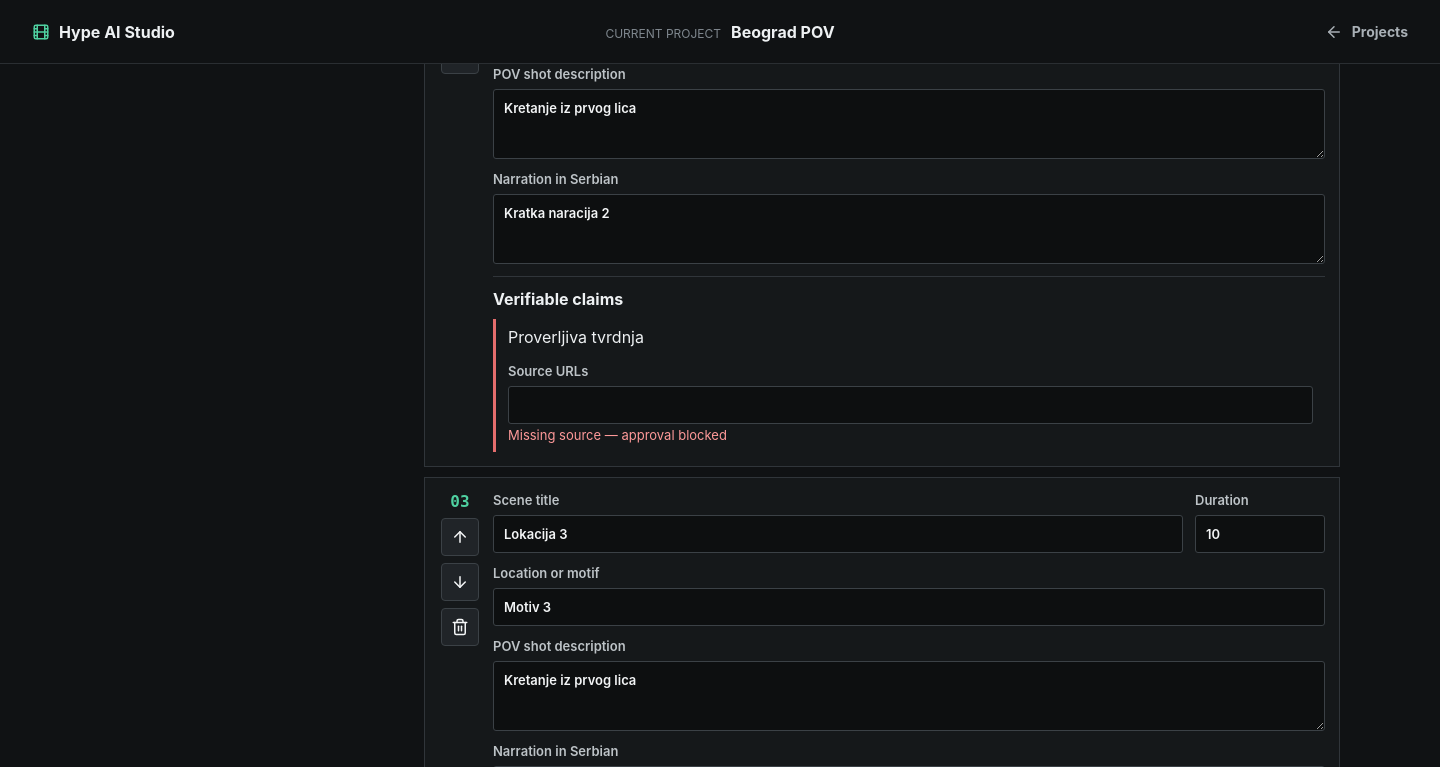
Test case: blocks an unsourced tour claim and approves the sourced immutable version
(page scrolled)
Expected: the text "Missing source — approval blocked" is shown, top-left (508, 427), bottom-right (727, 443)
Type "https://example.test/source" into the field named "Sources for scene 2 claim 1" at (910, 405), box top-left (508, 386), bottom-right (1313, 424)
(page scrolled)
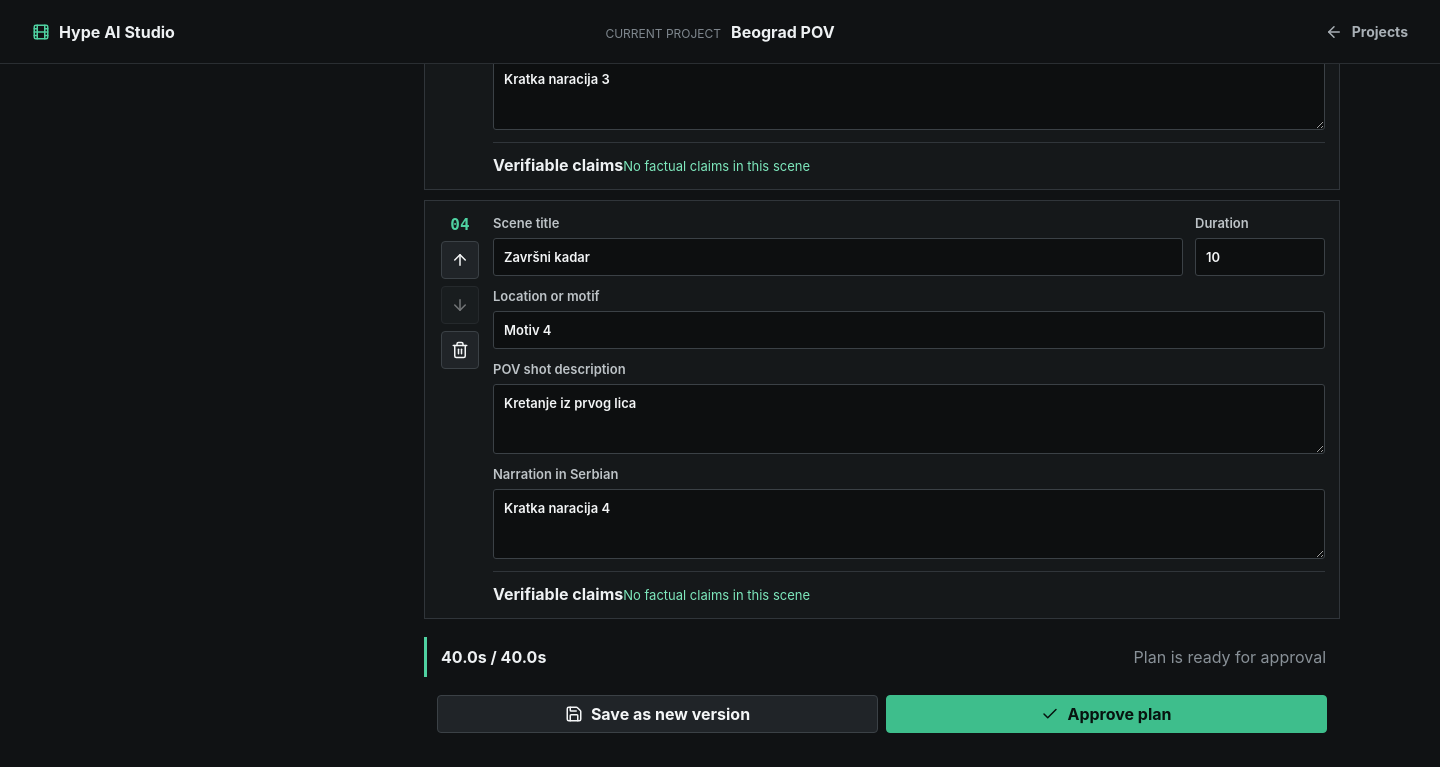
Click the button "Approve plan" at (1106, 714), box top-left (886, 695), bottom-right (1327, 733)
(page scrolled)
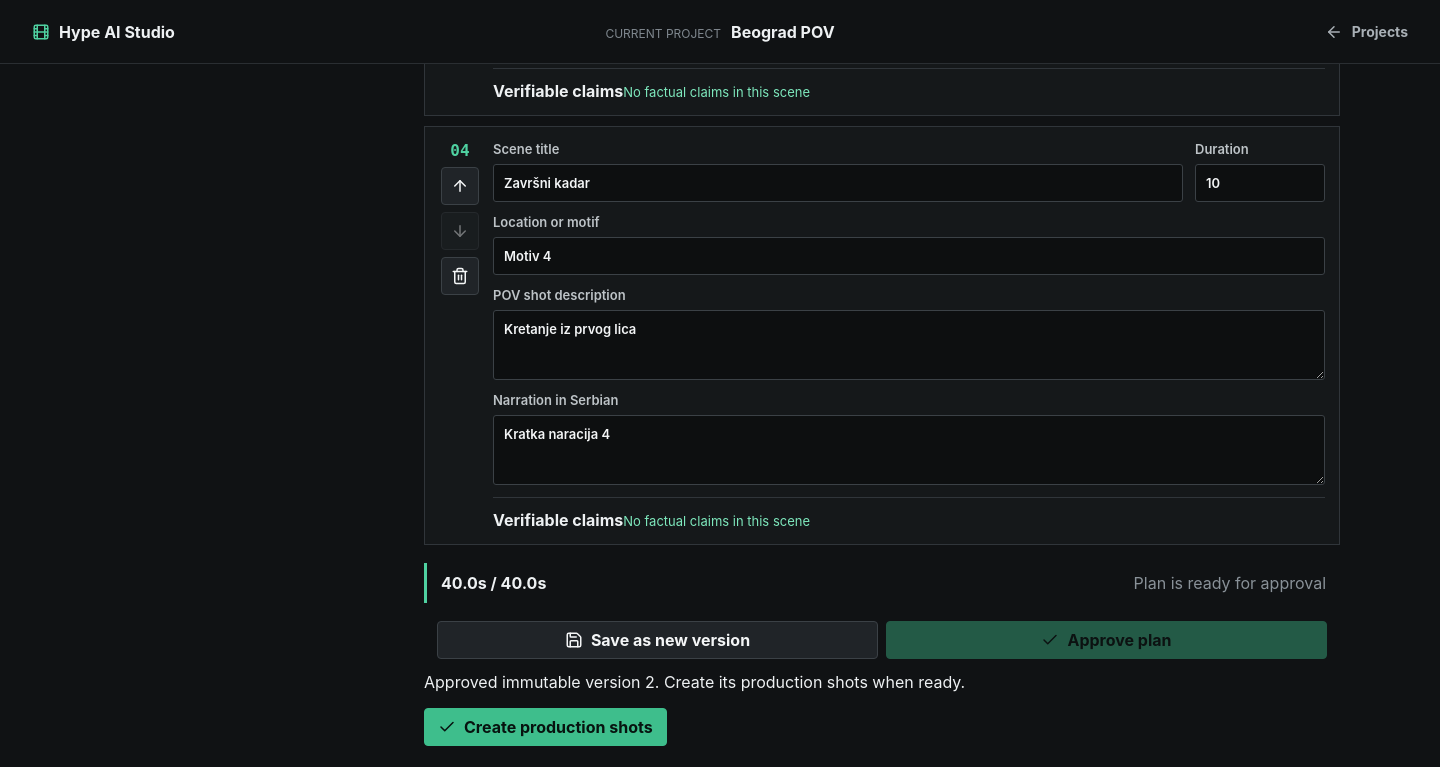
Now the text "Approved immutable version 2" is shown, box top-left (424, 672), bottom-right (965, 692)
Click the button "Create production shots" at (545, 727), box top-left (424, 708), bottom-right (667, 746)
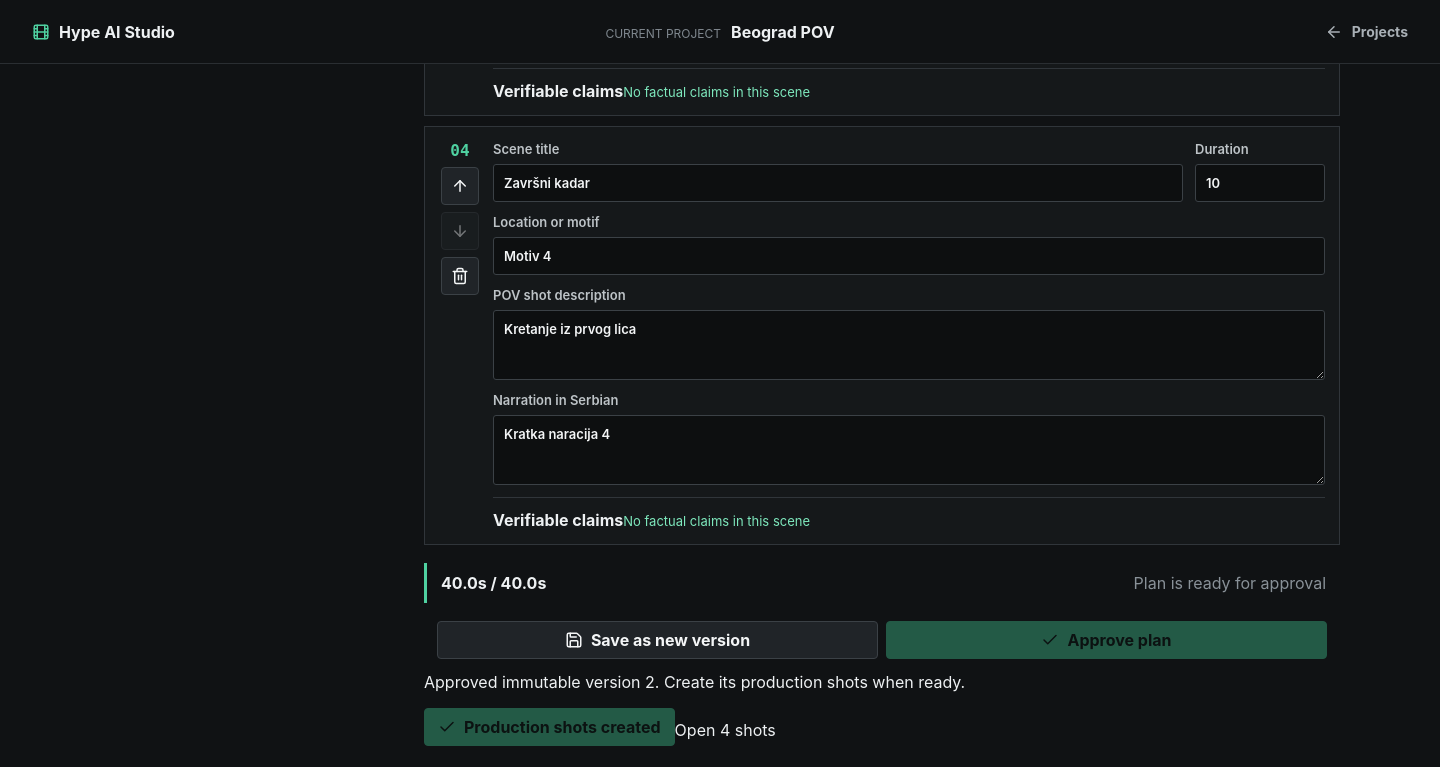
Now the link "Open 4 shots" is shown, box top-left (675, 720), bottom-right (776, 740)
